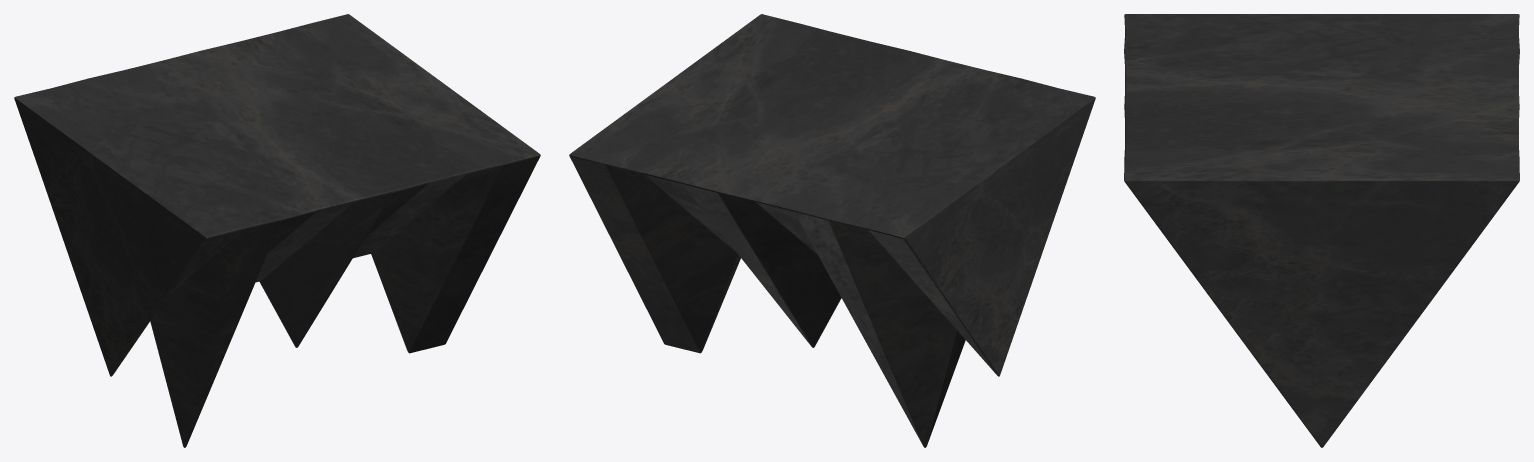
The model's file is final platform.fbx.
The picture shows the model from 3 angles, left to right: view 1: azimuth 30°, elevation 25°; view 2: azimuth 150°, elevation 25°; view 3: azimuth 270°, elevation 25°; orthographic projection. The views are drawn at different scales.
Parts seen in each view (by area): view 1: square_plat_2; view 2: square_plat_2; view 3: square_plat_2.
Part boxes in pixels (<box>): square_plat_2: <box>14,14,540,447</box>; square_plat_2: <box>569,14,1095,447</box>; square_plat_2: <box>1124,14,1519,447</box>.
Bounding box in the file's own units: 2 × 1.71 × 1.99.
Materials: 1 (1 with a texture image).
